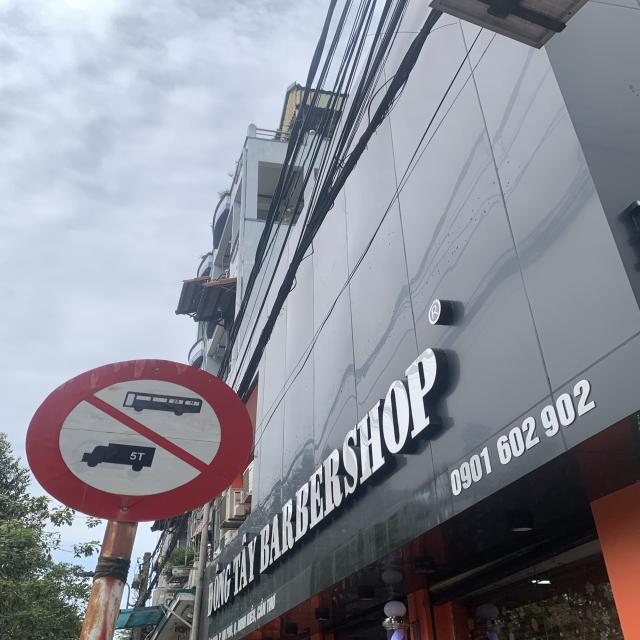Cam_XeTai_XeKhach: (26, 359, 254, 522)
